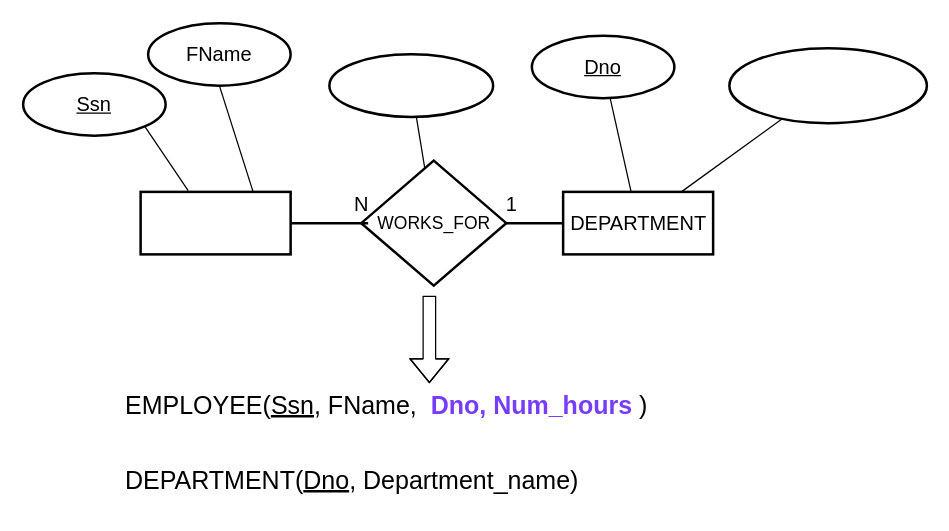
Some shapes in this 949 by 531 pixel diagram are drawn without their labels. Each missing label, with the box of its shape:
Department_name: (728, 46, 928, 124)
EMPLOYEE: (139, 190, 291, 255)
Num_hours: (328, 52, 494, 118)
